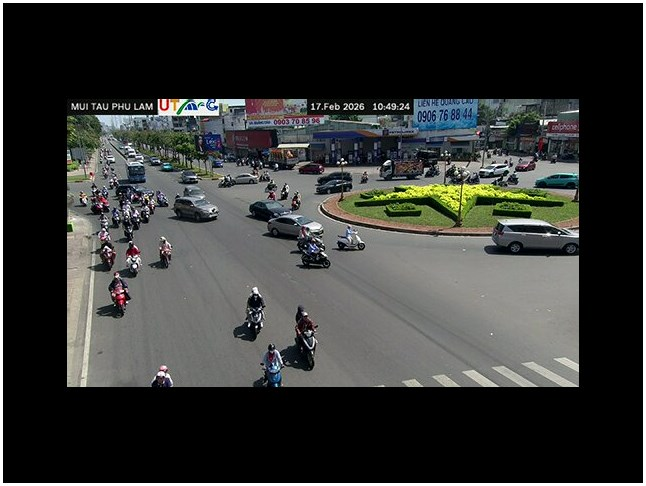car: (491, 218, 578, 255), (265, 214, 320, 239), (171, 198, 219, 222), (247, 200, 293, 221), (314, 173, 353, 195), (534, 173, 578, 189), (220, 173, 259, 185), (296, 161, 325, 174), (179, 171, 199, 184)
motorbike: (233, 307, 265, 342), (294, 241, 330, 269), (97, 288, 129, 318), (335, 225, 366, 251), (124, 241, 141, 277), (123, 253, 141, 277)
